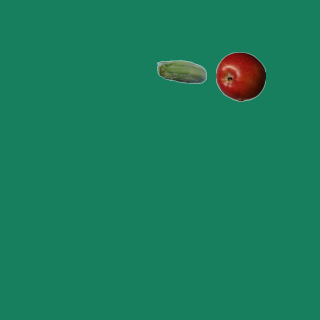Apple Braeburn: (215, 51, 265, 101)
Corn Husk: (156, 48, 206, 98)
